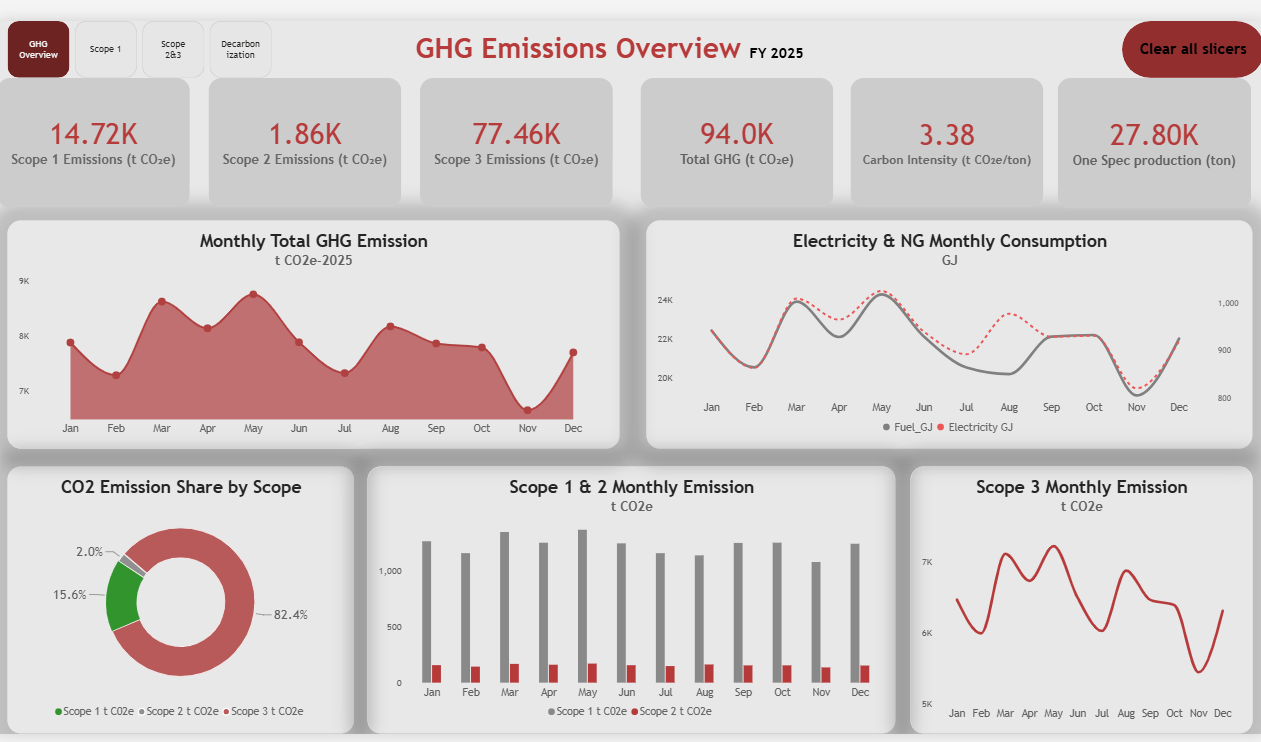

What the dashboard file says about the page in this screenshot:
{"tool":"powerbi","page":{"name":"GHG Overview","canvas":[1920,1080],"ordinal":0},"visuals":[{"type":"cardVisual","fields":{"Data":["KPI (2).Scope 1 total tonC02e"]},"box":[0,86.2,292,196.7],"z":0,"group":"g1"},{"type":"donutChart","title":"CO2 Emission Share by Scope","fields":{"Y":["KPI (2).Scope 1 total tonC02e","KPI (2).Scope 2 total tonCO2","KPI (2).Scope 3 total CO2"]},"box":[15.9,674.6,524.7,404.3],"z":0},{"type":"cardVisual","fields":{"Data":["KPI (2).Scope 3 total CO2"]},"box":[640.2,86.2,292,196.7],"z":1000,"group":"g1"},{"type":"areaChart","title":"Monthly Total GHG Emission ","fields":{"Category":["Date Table.Month"],"Y":["KPI (2).Total GHG tCO2e"]},"box":[15.9,302.1,926.7,345.2],"z":1000},{"type":"lineChart","title":"Electricity & NG Monthly Consumption","fields":{"Category":["Date Table.Month"],"Y":["Sum(Hourly_Operations.Fuel_GJ)"],"Y2":["Sum(Electricity_Daily.Electricity GJ)"]},"box":[983.5,302.1,917.6,345.2],"z":2000},{"type":"group","id":"g1","title":"Group 1","box":[0,85.5,1899.1,198.7],"z":3000},{"type":"cardVisual","fields":{"Data":["KPI (2).Total GHG tCO2e"]},"box":[974.3,86.2,292,196.7],"z":3000,"group":"g1"},{"type":"cardVisual","fields":{"Data":["KPI (2).Carbon Intensity tCO2e/t"]},"box":[1291.6,86.2,292,196.7],"z":4000,"group":"g1"},{"type":"clusteredColumnChart","title":"Scope 1 & 2 Monthly Emission ","fields":{"Category":["Date Table.Month"],"Y":["KPI (2).Scope 1 total tonC02e","KPI (2).Scope 2 total tonCO2"]},"box":[561,674.6,799.5,404.3],"z":4000},{"type":"cardVisual","fields":{"Data":["KPI (2).one spec production ton"]},"box":[1605.9,85.5,293.2,198.7],"z":5000,"group":"g1"},{"type":"lineChart","title":" Scope 3 Monthly Emission ","fields":{"Category":["Date Table.Month"],"Y":["KPI (2).Scope 3 total CO2"]},"box":[1383.2,674.6,517.9,404.3],"z":5000},{"type":"textbox","box":[399.8,15.9,1042.5,70.4],"z":6000},{"type":"cardVisual","fields":{"Data":["KPI (2).Scope 2 total tonCO2"]},"box":[320.1,86.2,292,196.7],"z":6001,"group":"g1"},{"type":"actionButton","box":[1703.5,0,215.8,86.3],"z":7000},{"type":"pageNavigator","box":[15.9,0,402,86.3],"z":8000}]}

Visuals, with their boxes on the page's 1920x1080 design canvas (x1, y1, x2, y2). These are canvas units, not pixel positions in the 1261x742 screenshot, which may show the page scaled, cropped or inside an application window:
cardVisual - KPI (2).Scope 1 total tonC02e: region(0, 86, 292, 283)
"CO2 Emission Share by Scope" donutChart: region(16, 675, 541, 1079)
cardVisual - KPI (2).Scope 3 total CO2: region(640, 86, 932, 283)
"Monthly Total GHG Emission " areaChart: region(16, 302, 943, 647)
"Electricity & NG Monthly Consumption" lineChart: region(984, 302, 1901, 647)
"Group 1" group: region(0, 86, 1899, 284)
cardVisual - KPI (2).Total GHG tCO2e: region(974, 86, 1266, 283)
cardVisual - KPI (2).Carbon Intensity tCO2e/t: region(1292, 86, 1584, 283)
"Scope 1 & 2 Monthly Emission " clusteredColumnChart: region(561, 675, 1360, 1079)
cardVisual - KPI (2).one spec production ton: region(1606, 86, 1899, 284)
" Scope 3 Monthly Emission " lineChart: region(1383, 675, 1901, 1079)
textbox: region(400, 16, 1442, 86)
cardVisual - KPI (2).Scope 2 total tonCO2: region(320, 86, 612, 283)
actionButton: region(1704, 0, 1919, 86)
pageNavigator: region(16, 0, 418, 86)
